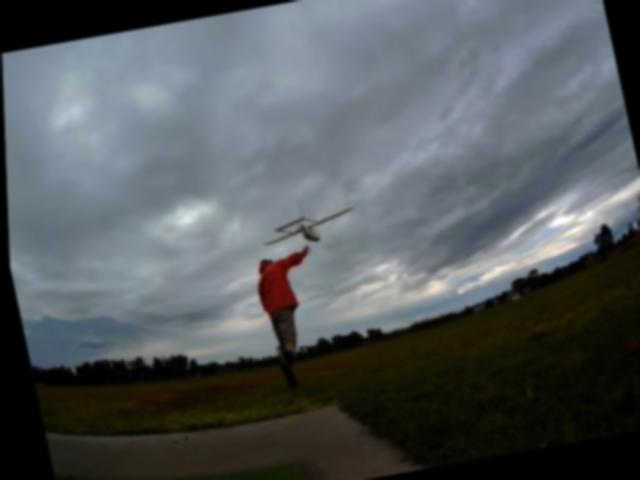uav: (254, 194, 357, 250)
